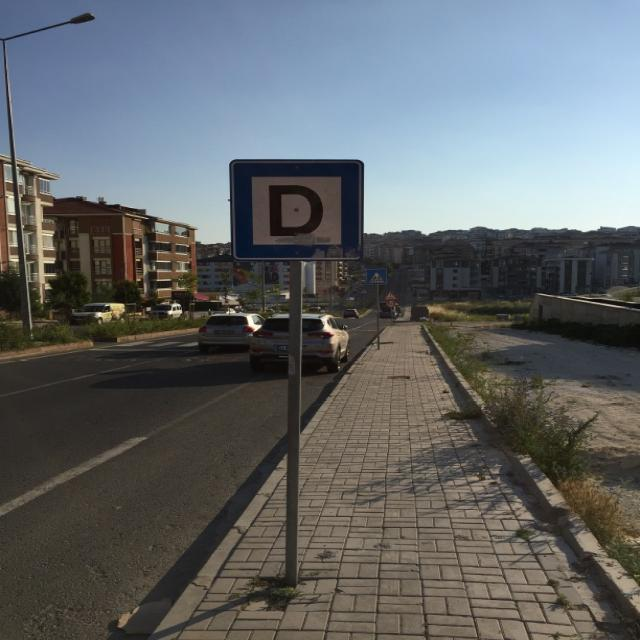durak: (226, 157, 369, 266)
